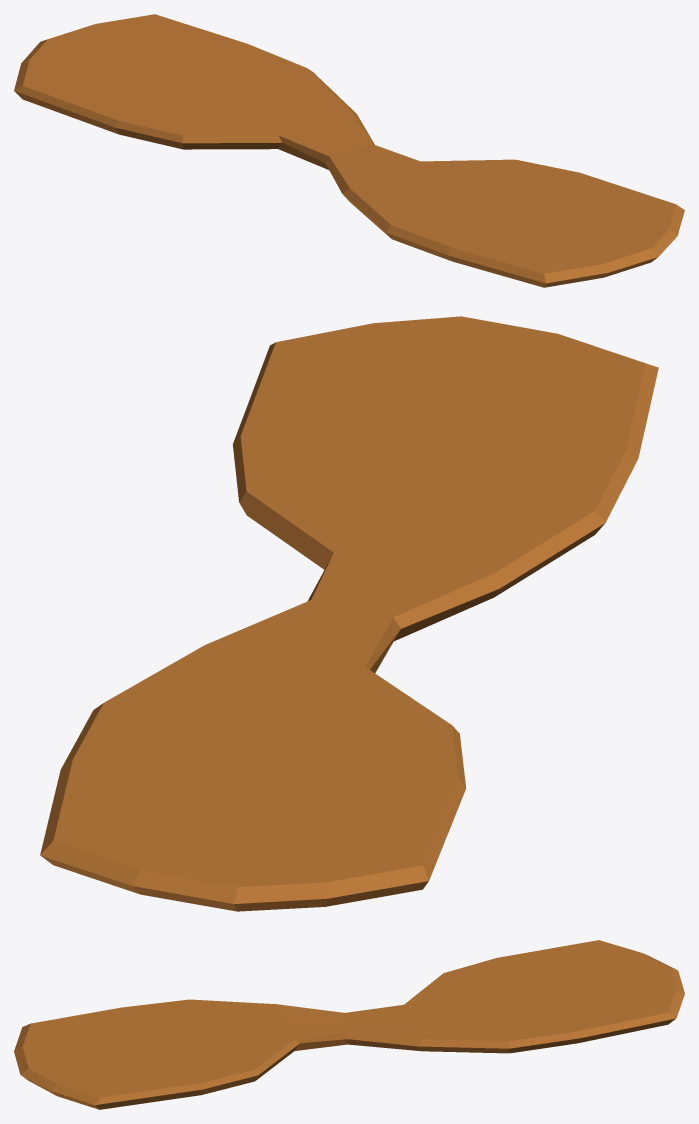
Rendered from GunBotRotorBottom.fbx.
3 renders of one model, top to bottom at view 1: azimuth 30°, elevation 25°; view 2: azimuth 150°, elevation 25°; view 3: azimuth 270°, elevation 25°, orthographic. The views are drawn at different scales.
Parts seen in each view (by area): view 1: GunBotRotorBottom; view 2: GunBotRotorBottom; view 3: GunBotRotorBottom.
Part boxes in pixels (x1=…): GunBotRotorBottom: x1=14, y1=14, x2=684, y2=287; GunBotRotorBottom: x1=40, y1=316, x2=658, y2=911; GunBotRotorBottom: x1=14, y1=940, x2=684, y2=1109.
Bounding box in the file's own units: 54.59 × 2.65 × 94.97.
